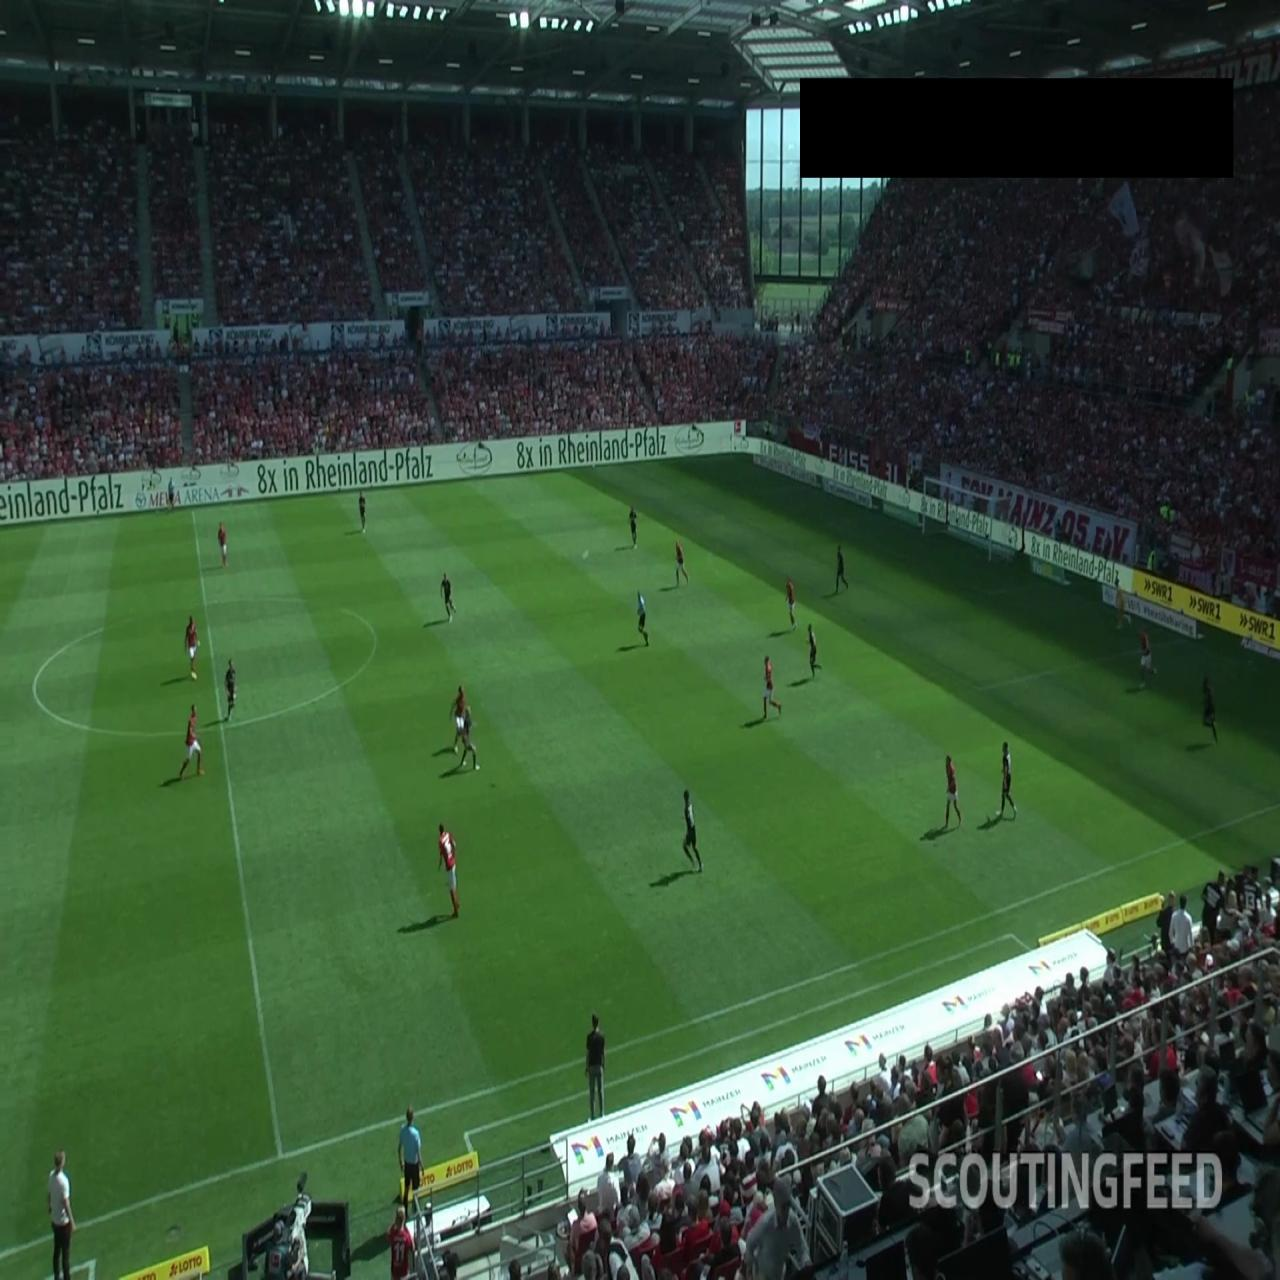ball: (581, 546, 590, 563)
goalkeeper: (1113, 576, 1133, 631)
player: (437, 822, 460, 918), (178, 703, 206, 781), (682, 788, 703, 874), (997, 741, 1017, 821), (943, 754, 962, 830), (459, 706, 479, 770), (449, 685, 467, 755), (762, 654, 781, 720), (1138, 627, 1157, 689), (1202, 676, 1219, 744), (185, 615, 201, 680), (807, 622, 824, 679), (224, 659, 237, 723), (441, 572, 456, 622), (834, 544, 849, 594), (674, 539, 689, 587), (785, 578, 797, 628), (217, 522, 228, 568), (629, 507, 638, 548), (359, 493, 366, 532)
referee: (636, 590, 649, 647), (165, 471, 178, 516)
